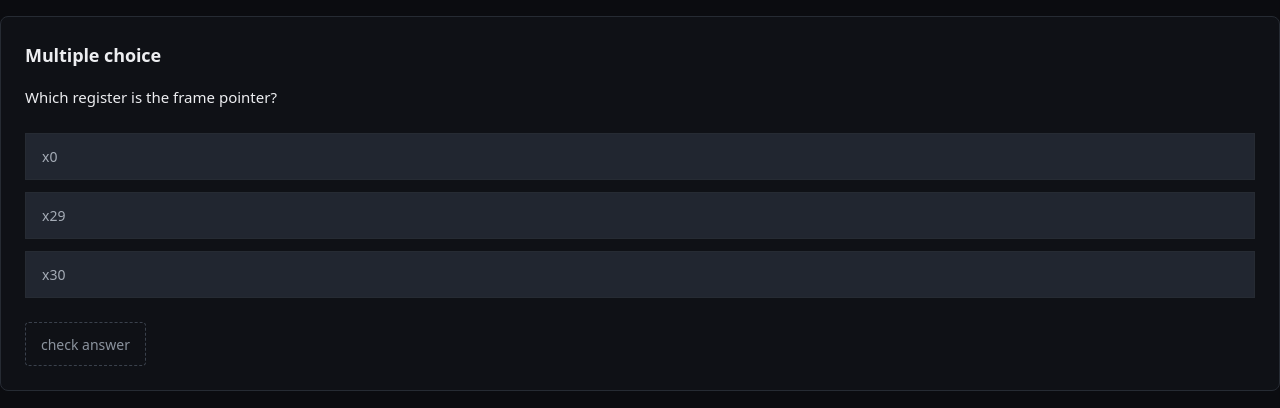
Test: QuizBlock › renders the question and every option, with checking disabled until a selection
Expected: the text "Which register is the frame pointer?" is shown, [25, 87, 277, 107]
Expected: the button "x29" is shown, [25, 192, 1255, 239]
Step 1. Click the button "x0" → (50, 157), box [25, 133, 1255, 180]
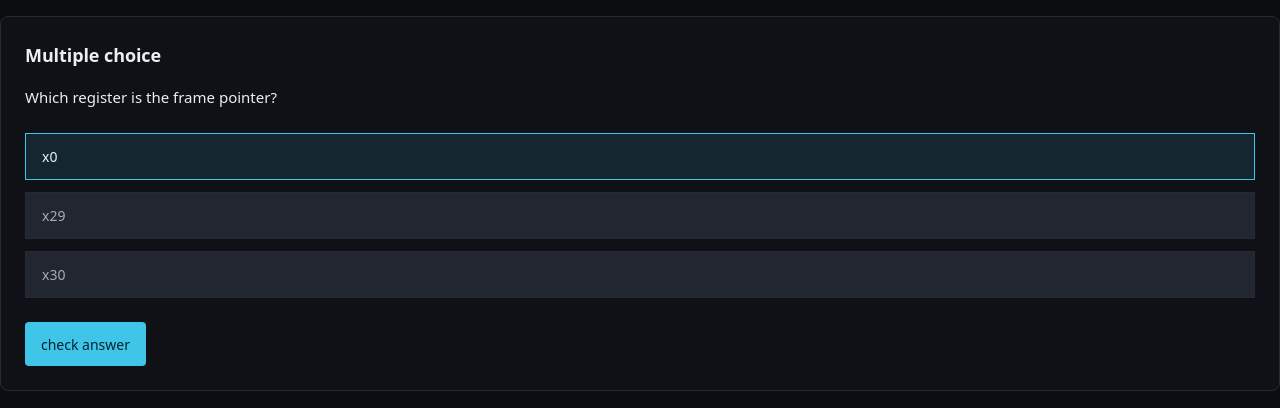
Result: the button "check answer" is enabled at [25, 322, 146, 366]
